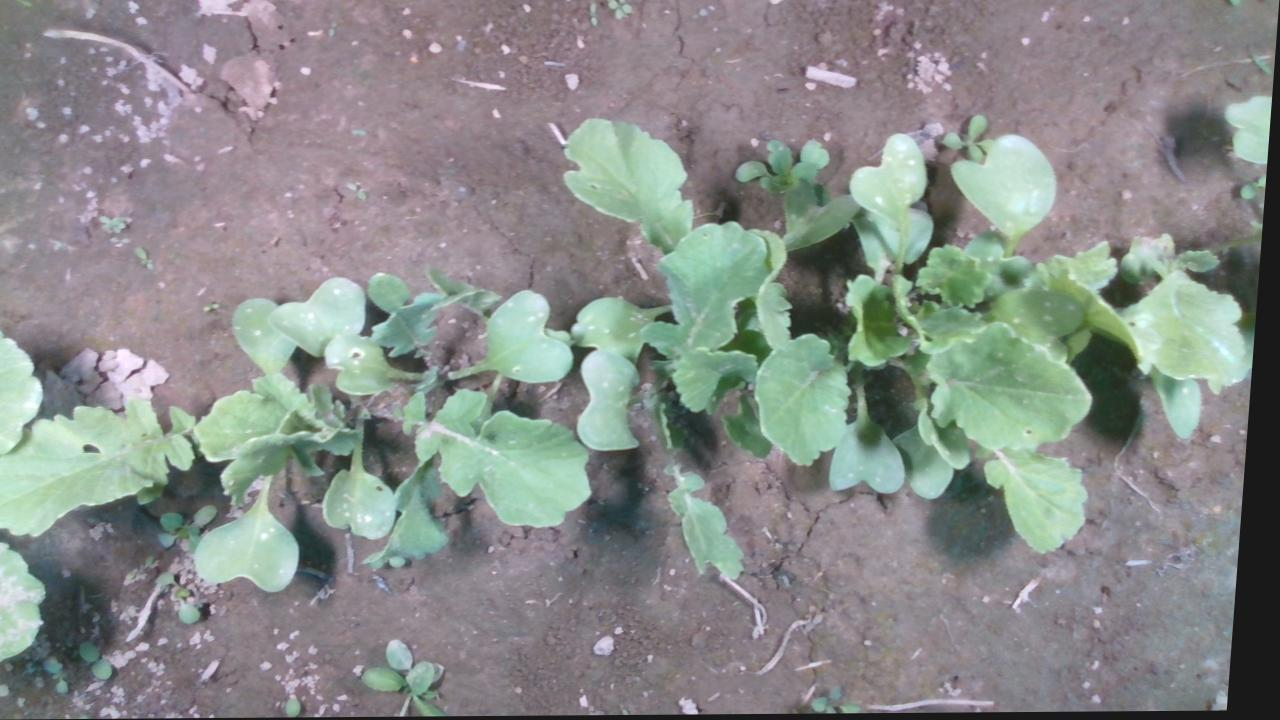weed: (85, 639, 124, 681), (134, 243, 160, 270), (345, 180, 371, 203), (204, 301, 225, 312)
